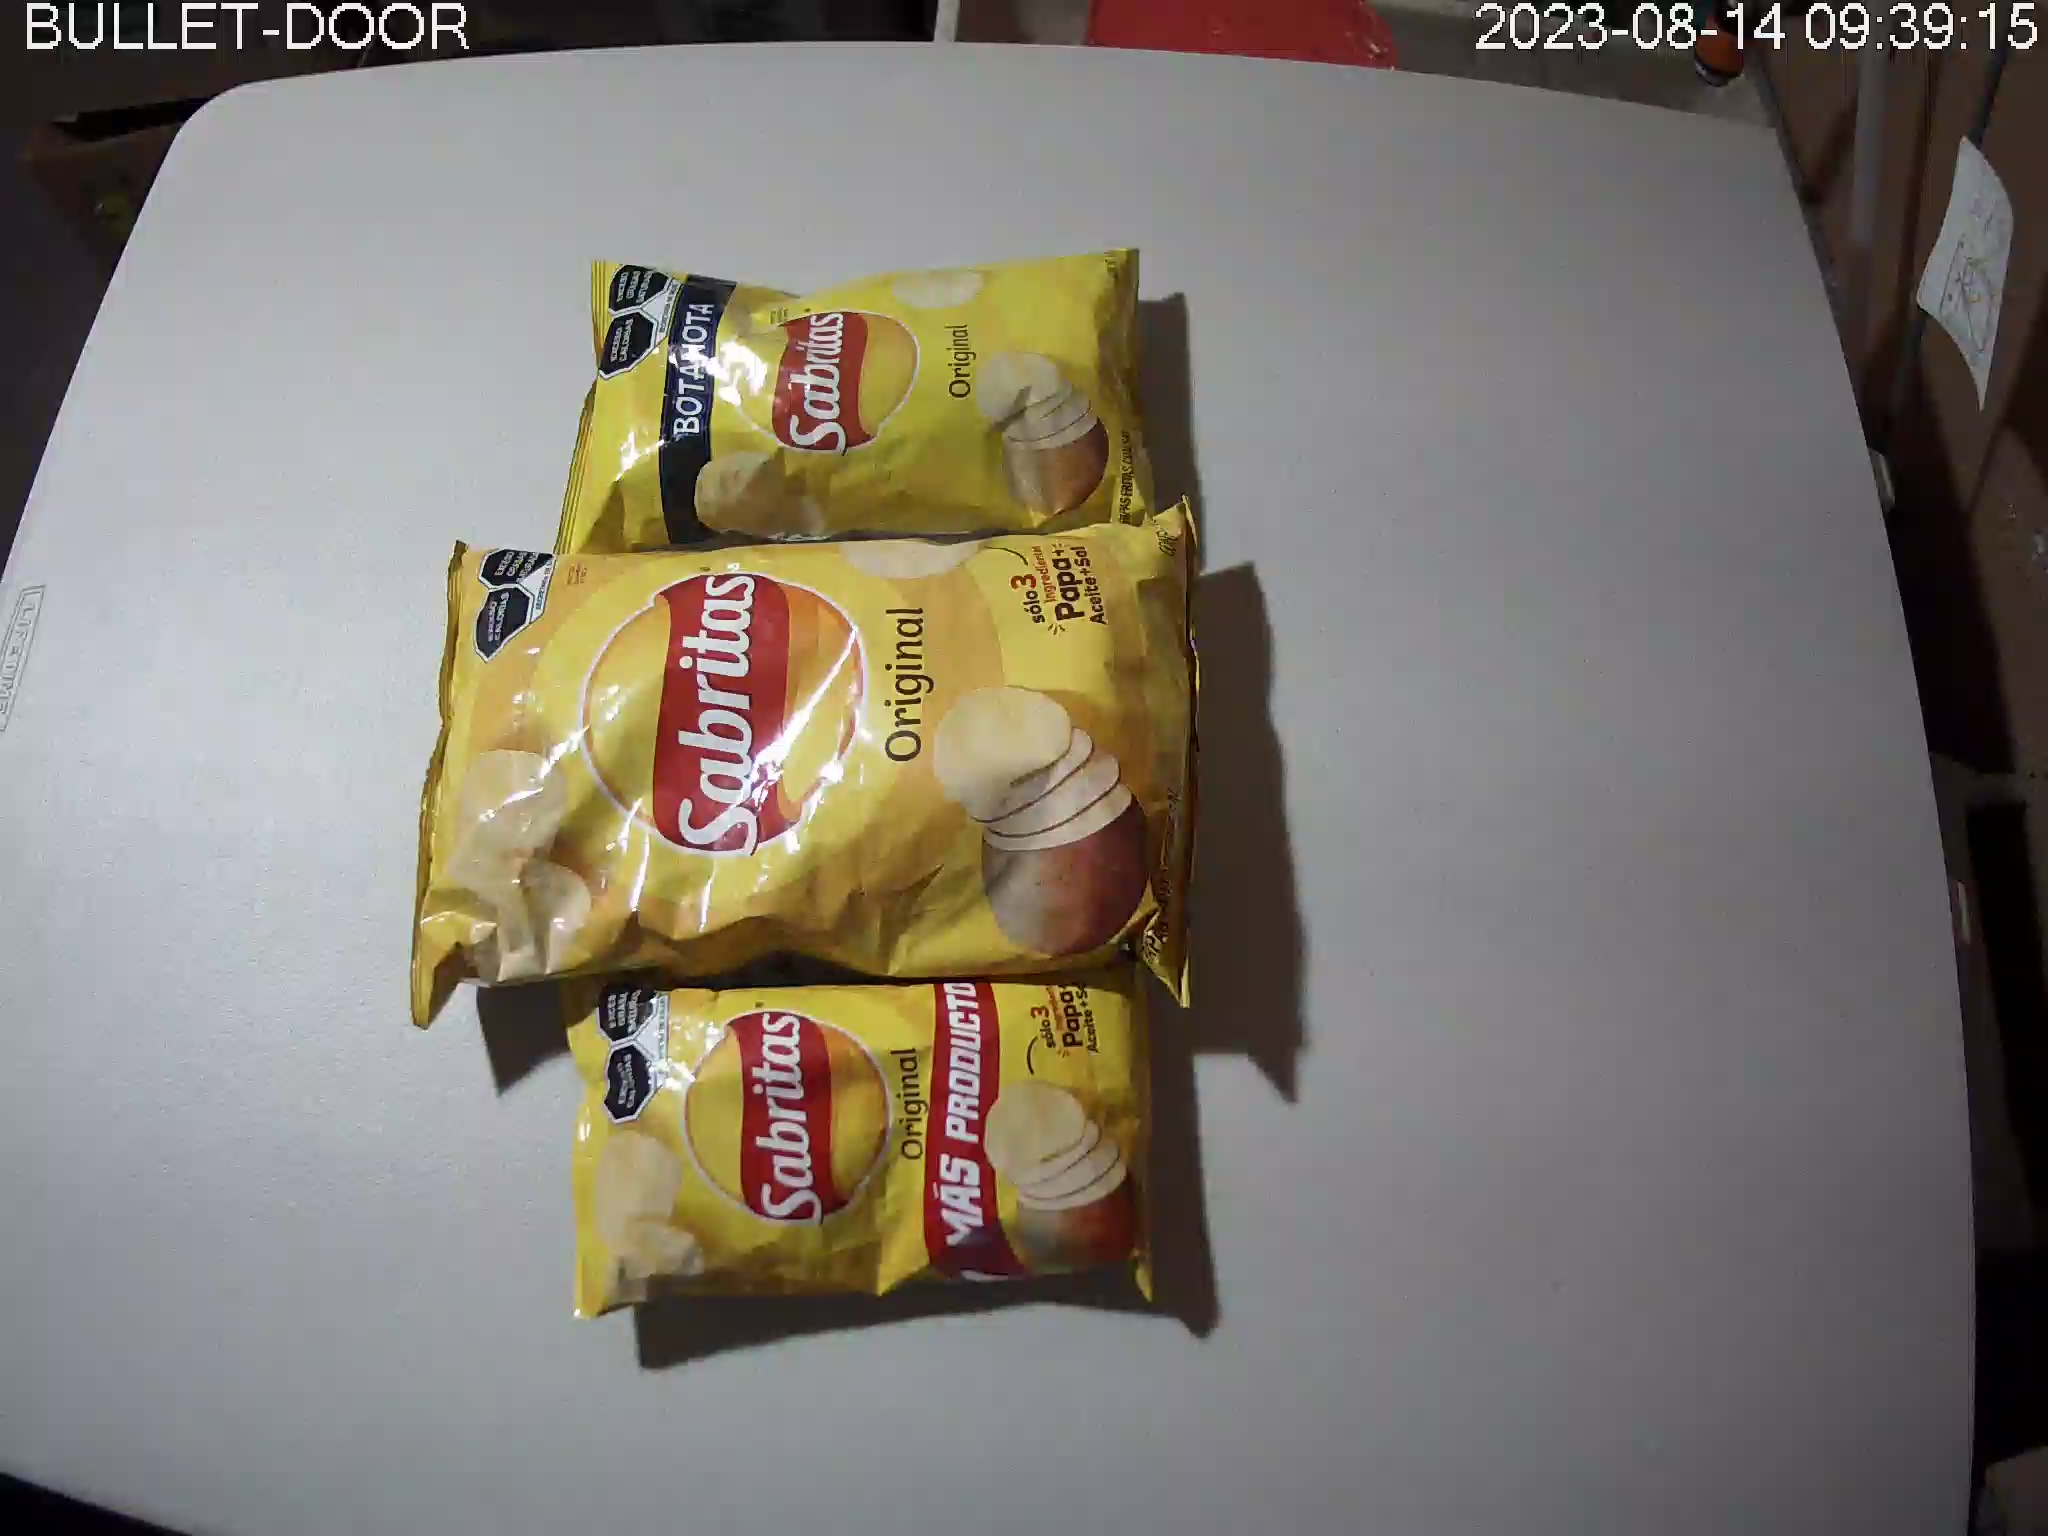Sabritas_160_F: (408, 502, 1206, 1016)
Sabritas_45_F: (553, 975, 1163, 1317)
Sabritas_64_F: (553, 250, 1155, 557)
